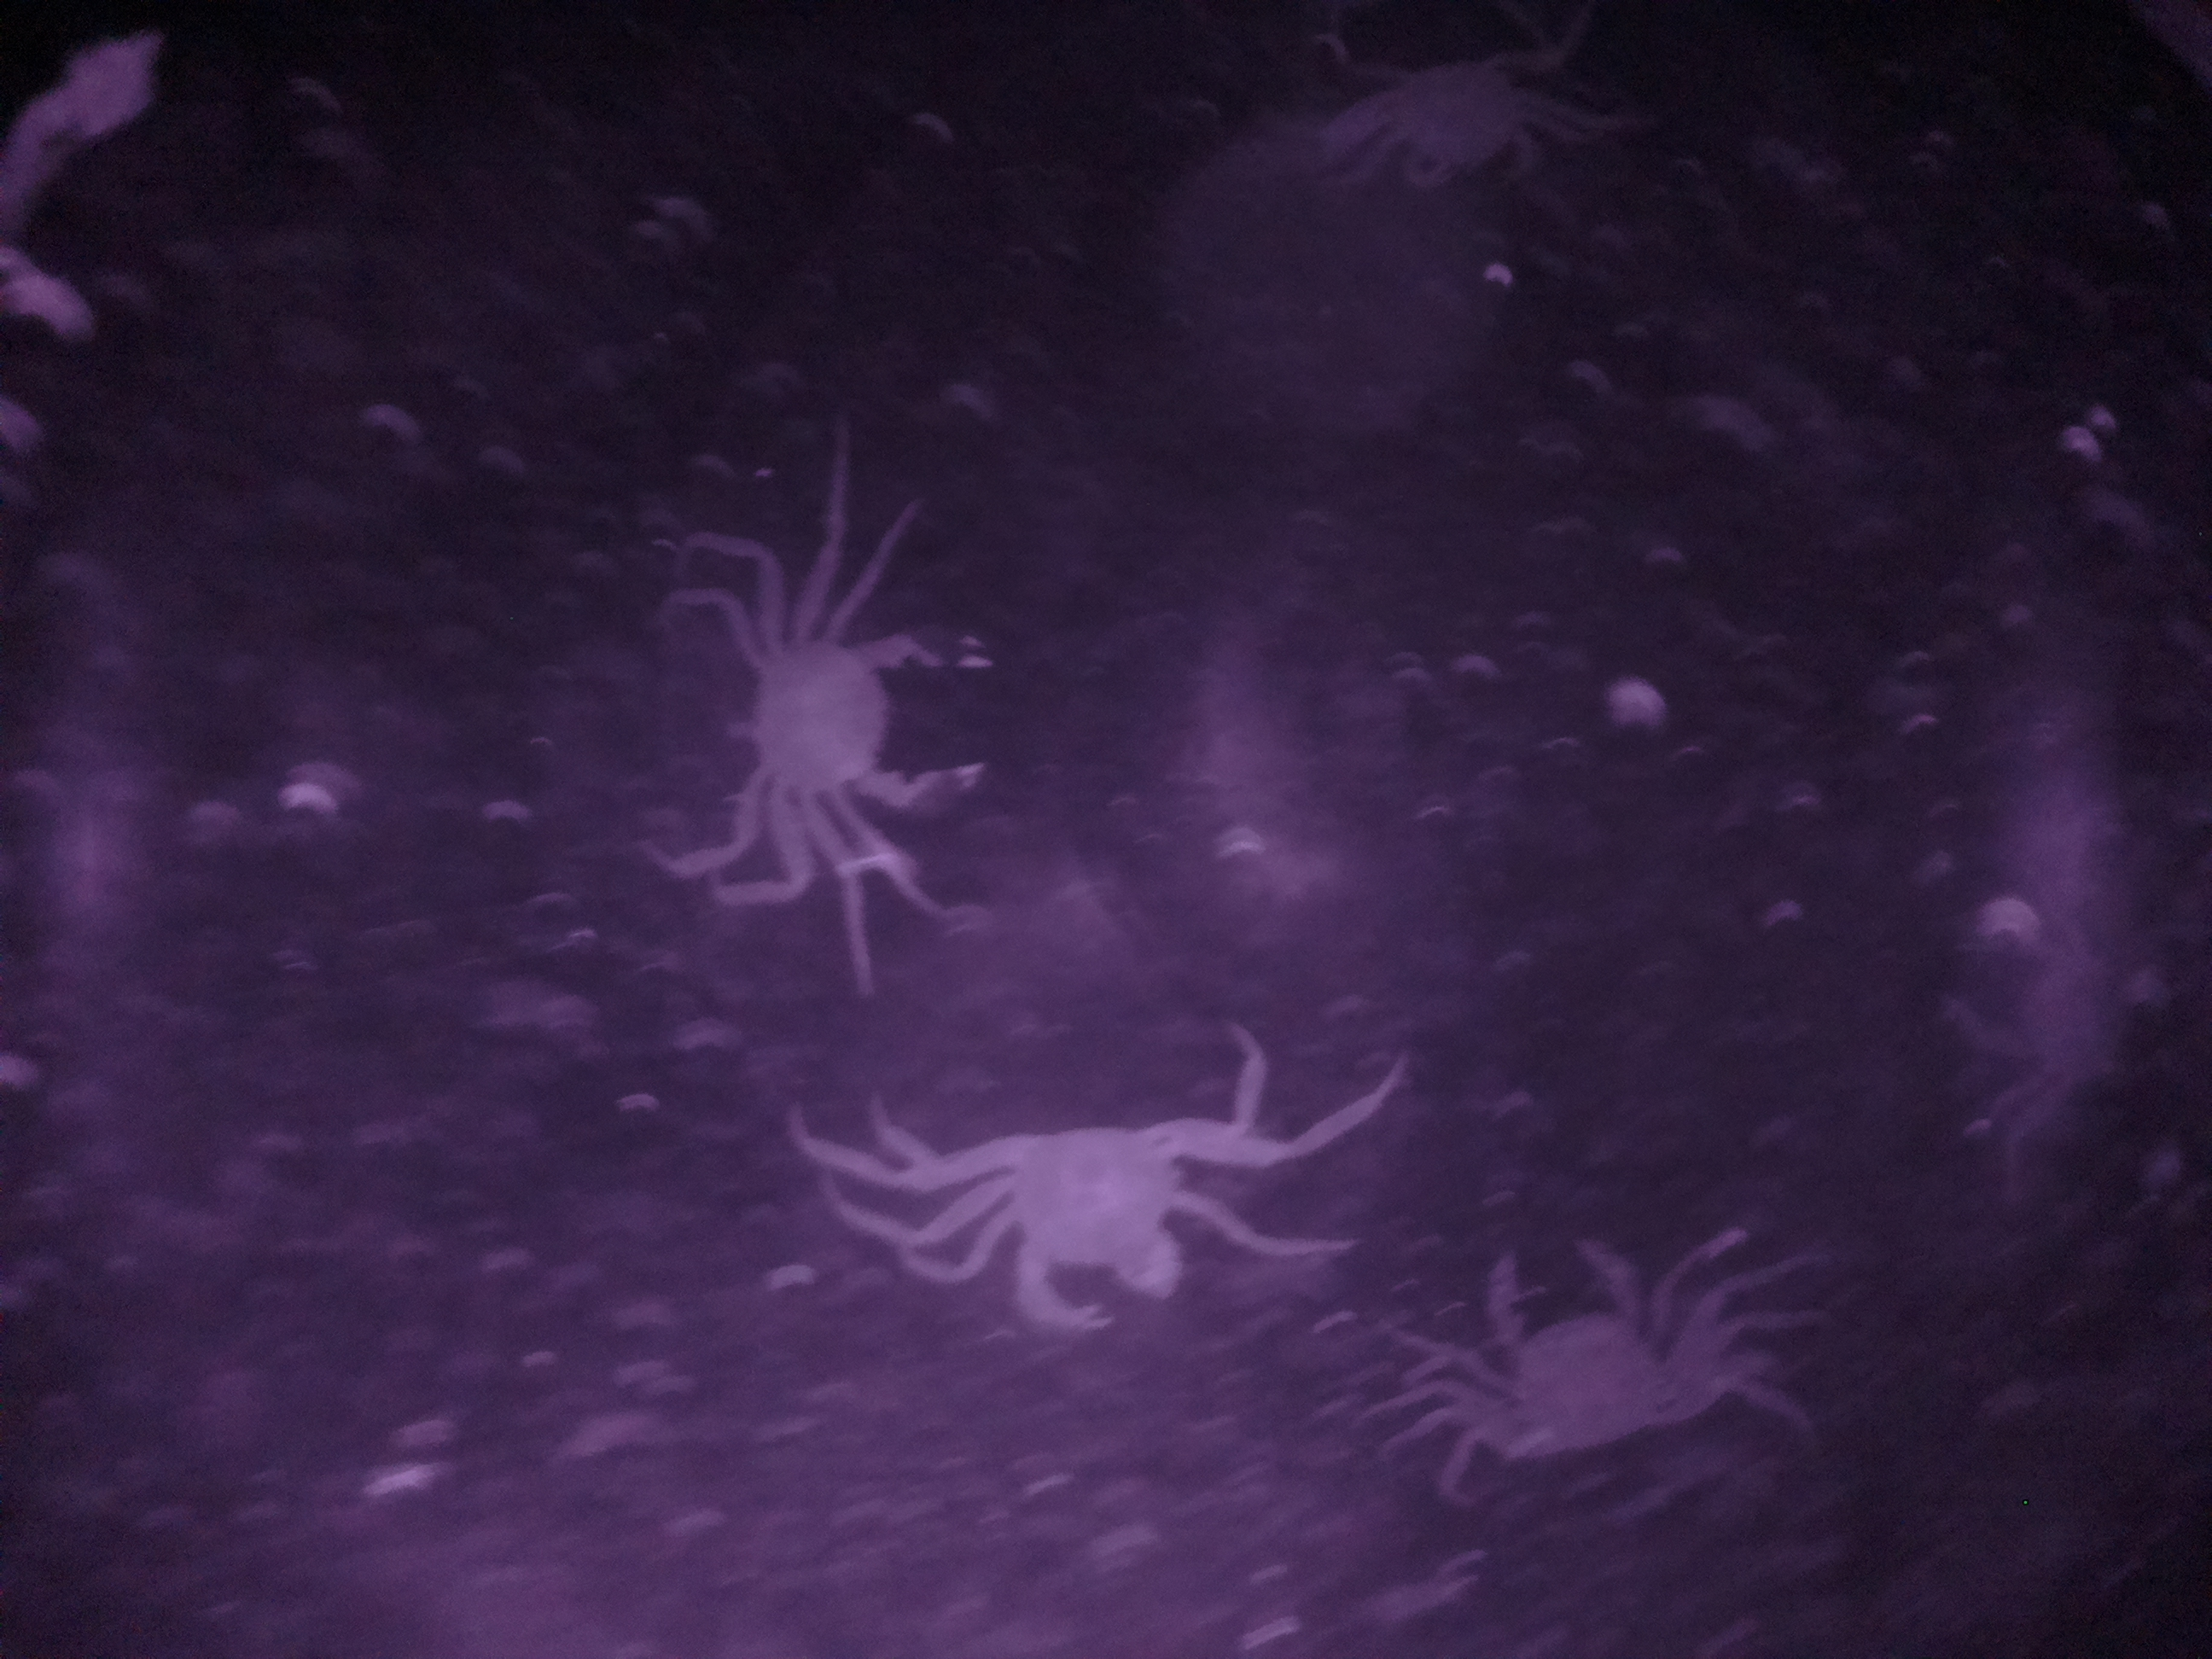Crab: (939, 1105, 1242, 1349), (716, 596, 1010, 829), (1451, 1206, 1696, 1469)
